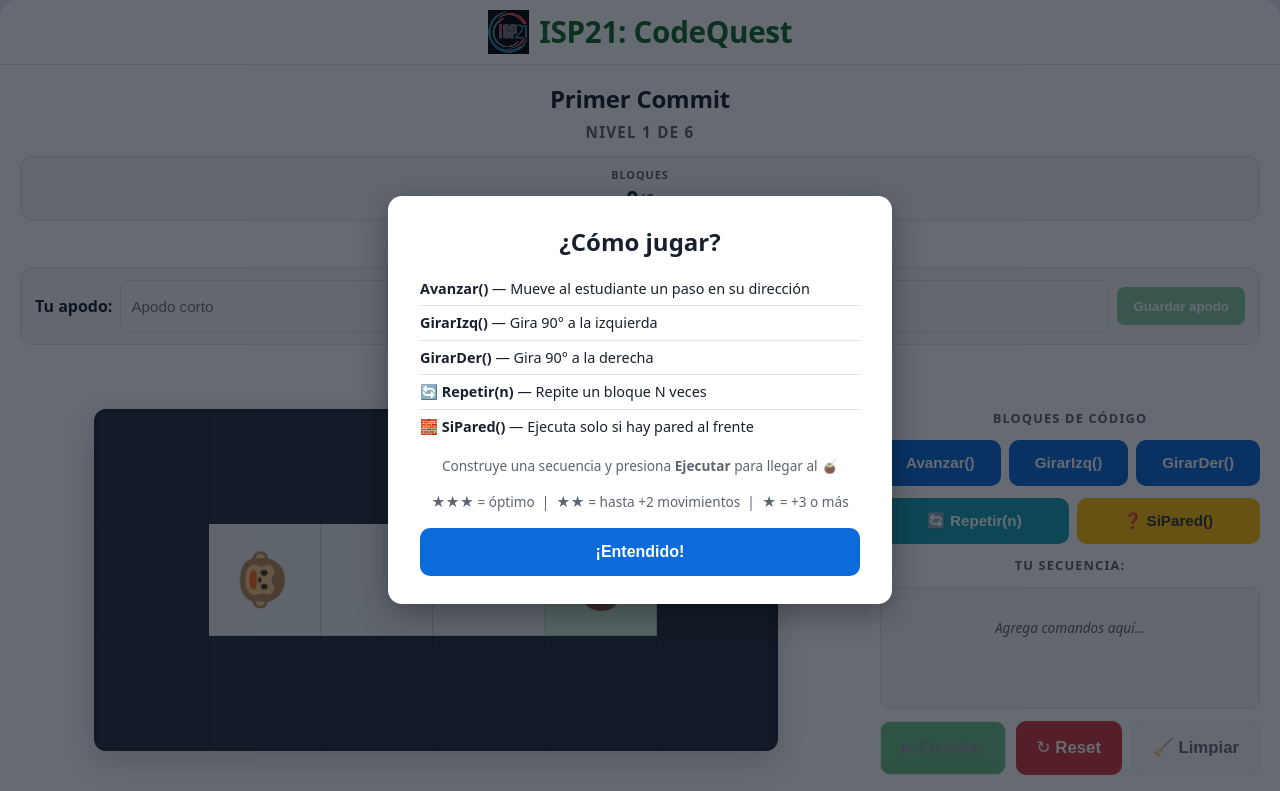
App › deshabilita limpiar cuando no hay nada que limpiar
Click the button "¡Entendido!".
click(640, 552)  # box [420,528,860,576]
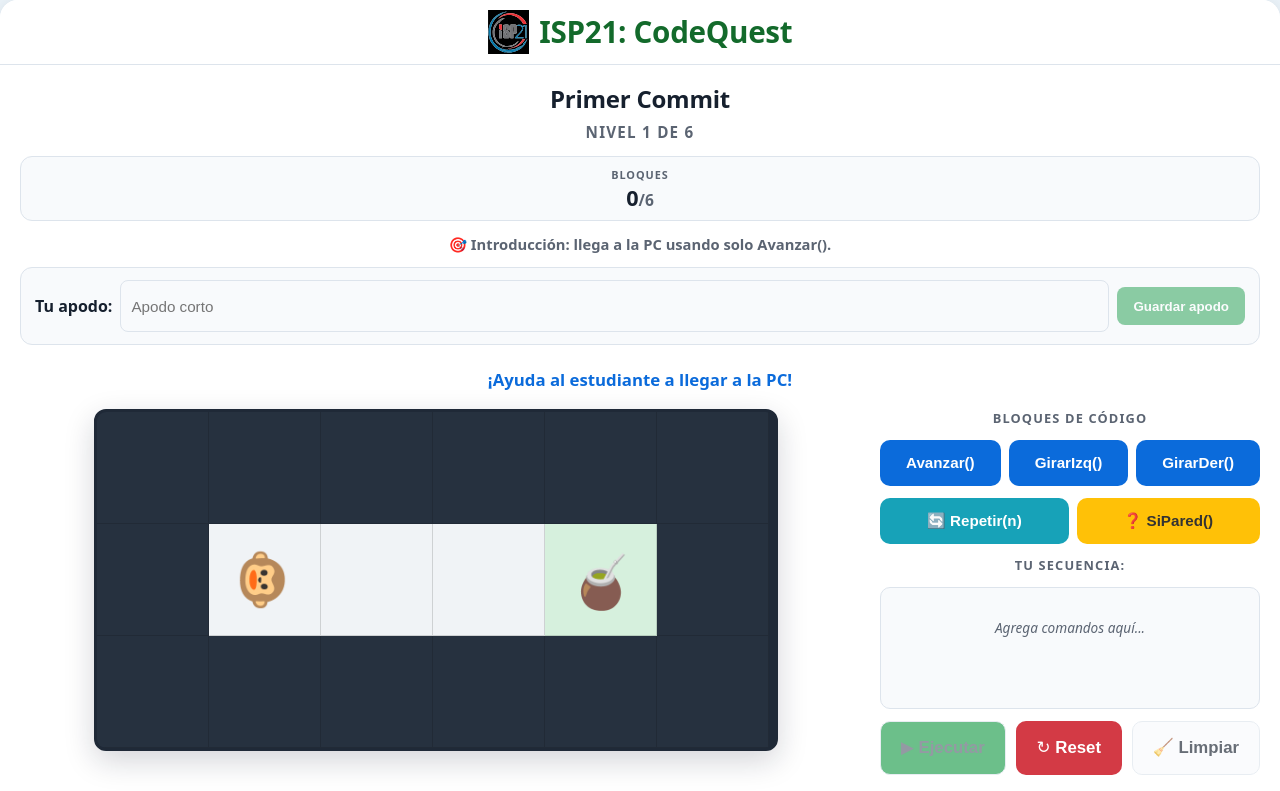
Expected: the button "🧹 Limpiar" is disabled, [1132,721,1260,775]
Click the button "Avanzar()".
click(940, 463)  # box [880,440,1001,486]
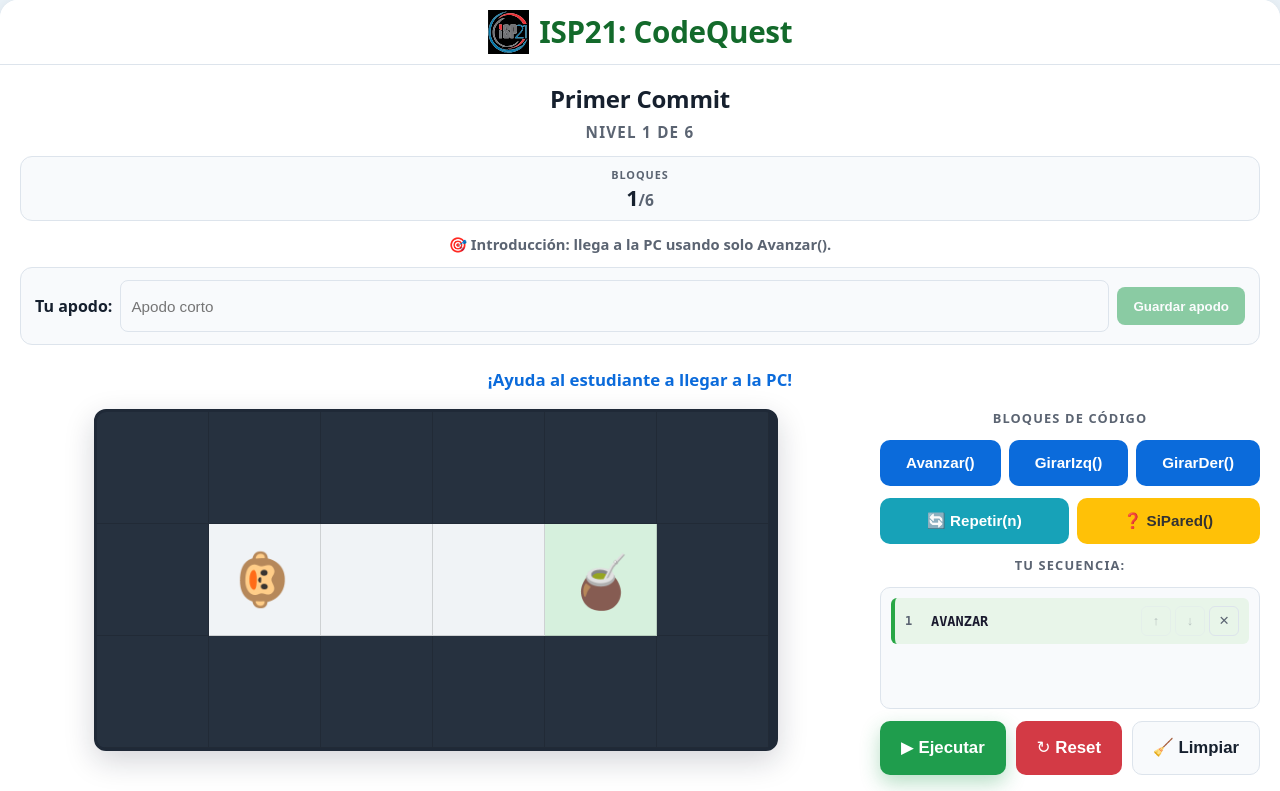
Expected: the button "🧹 Limpiar" is enabled, [1132,721,1260,775]
